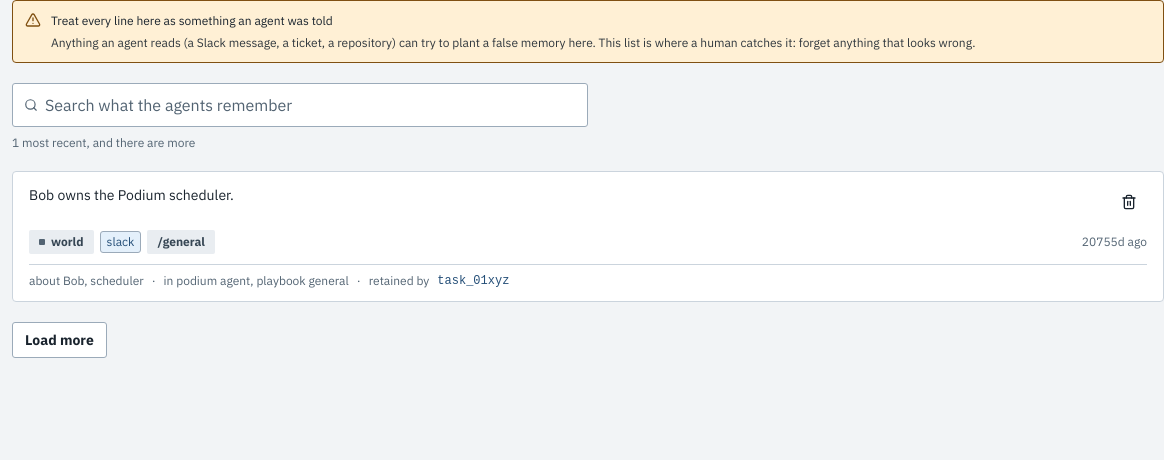
it: MemoryPanel › loads the next page without losing the first
The image size is (1164, 460).
Expected: the list item with test id "memory-row" is shown, [12,171,1163,302]
Click the button "Load more".
click(59, 340)  # box [12,322,107,358]
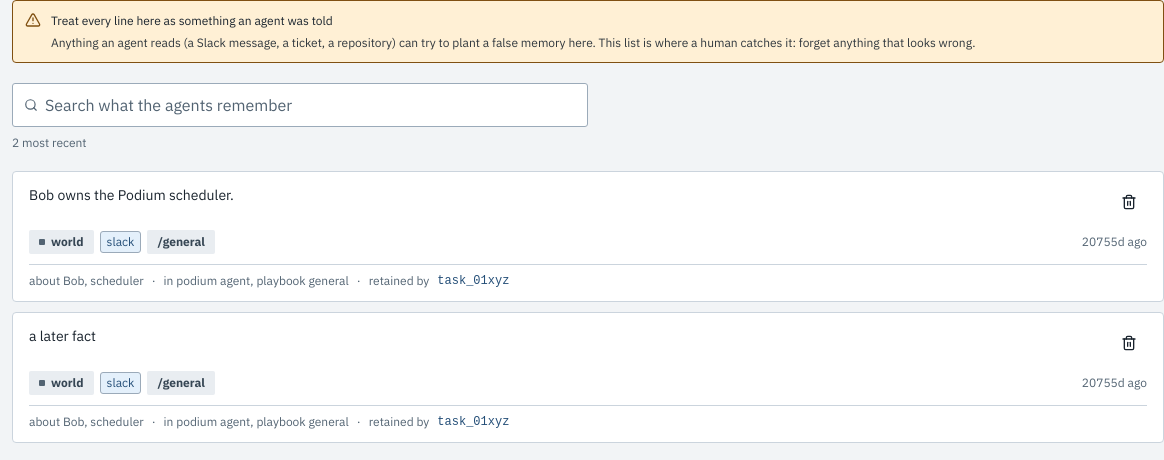
Expected: the text "Bob owns the Podium scheduler." is shown, [29,186,234,204]
Now the text "a later fact" is shown, box [29,327,96,345]
Now the button "Load more" is gone
